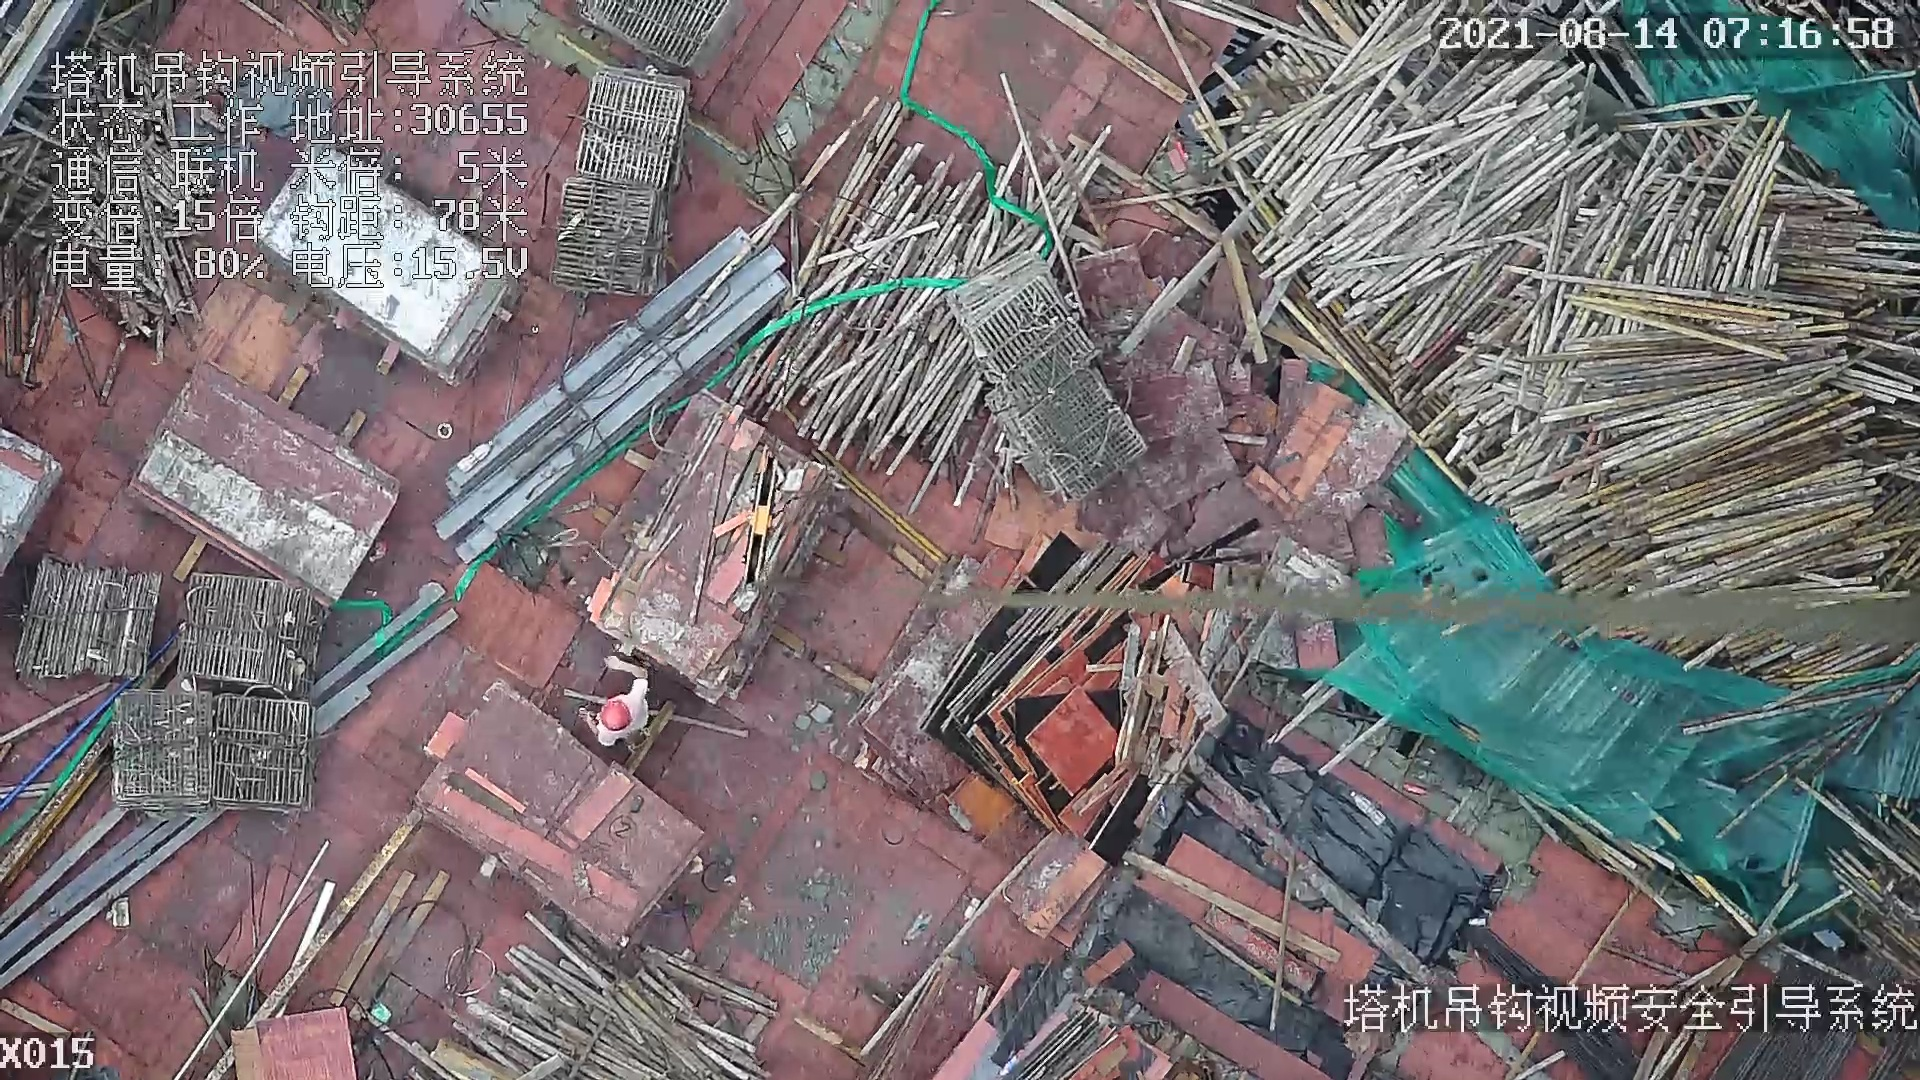helmet: (599, 695, 632, 737)
hook: (741, 454, 777, 594)
person: (577, 658, 650, 749)
